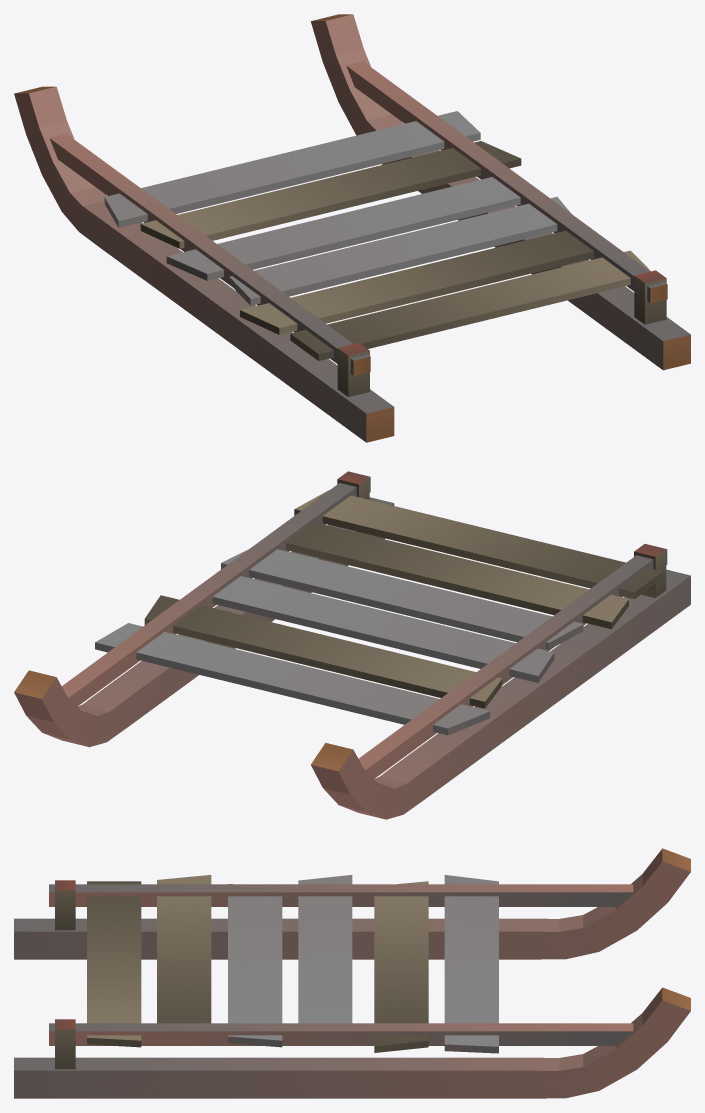
File: SnowBoard.fbx
3 views of the same model, one above another, from view 1: azimuth 30°, elevation 25°; view 2: azimuth 150°, elevation 25°; view 3: azimuth 270°, elevation 25° (orthographic). The views are drawn at different scales.
Parts seen in each view (by area): view 1: polySurface33; view 2: polySurface33; view 3: polySurface33.
Boxes of the visible parts, x1,y1,x2,y2 form: polySurface33: [14, 14, 690, 442]; polySurface33: [14, 471, 690, 819]; polySurface33: [14, 848, 690, 1098].
Size of the model in its own units: 1.98 by 0.5271 by 3.29.
1 material, 1 textured.
